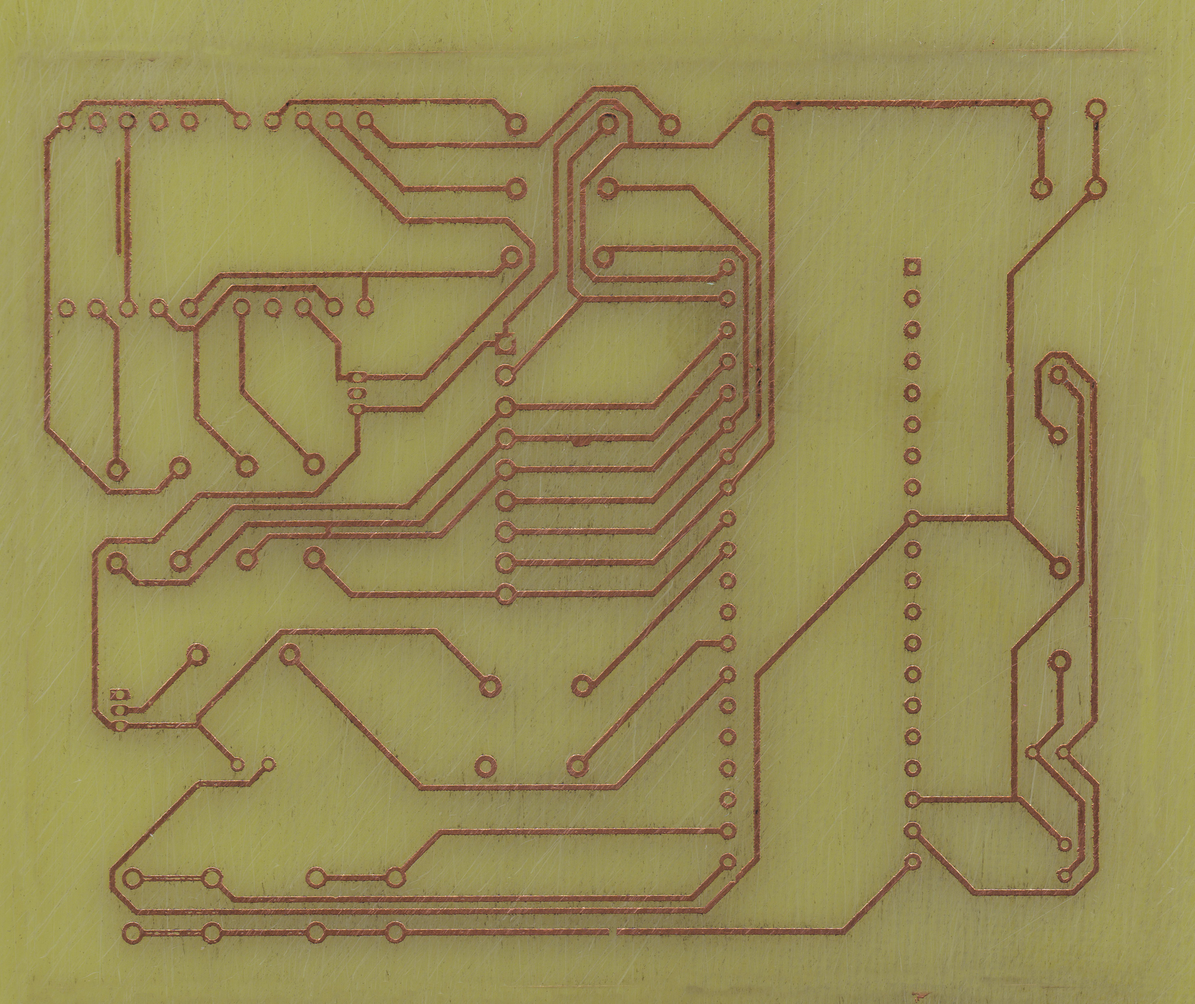missing_hole: (493, 329, 518, 357)
mouse_bite: (1000, 355, 1018, 383), (729, 875, 742, 886), (419, 98, 432, 106)
open_circuit: (603, 923, 622, 939)
short: (320, 517, 335, 541)
spur: (567, 429, 596, 450), (784, 100, 804, 112), (772, 100, 784, 112), (610, 103, 624, 112)
spurious_copper: (110, 154, 124, 258)
